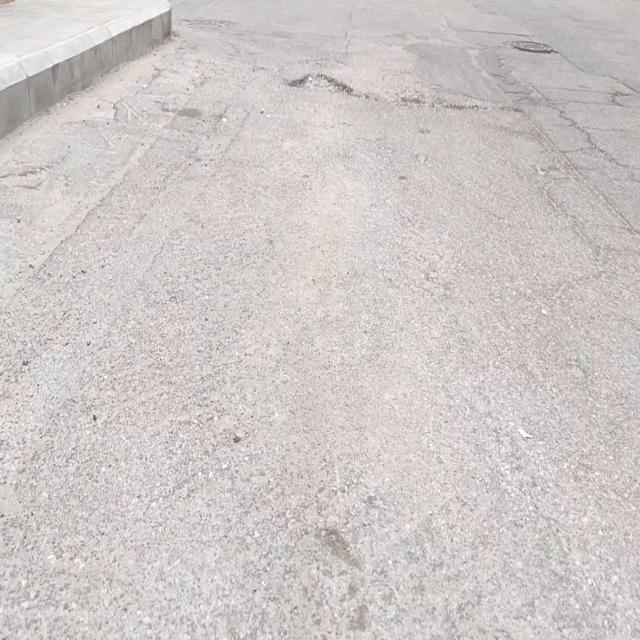Potholes: (287, 71, 355, 97)
